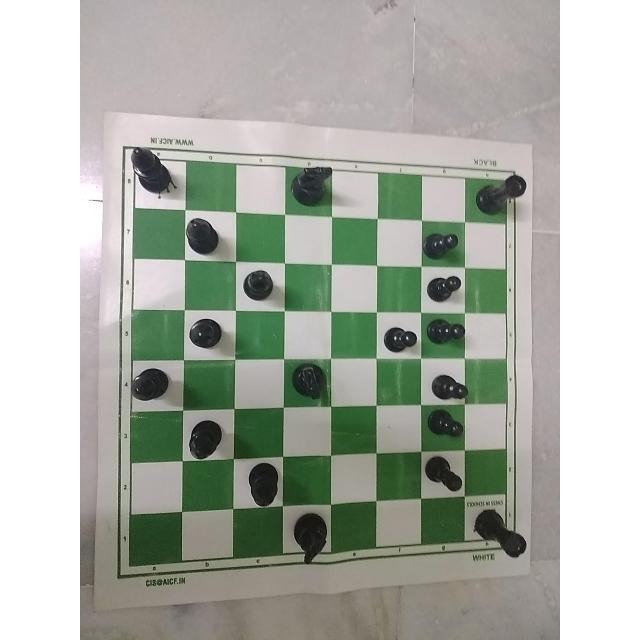black-bishop: (122, 145, 183, 208), (184, 411, 228, 465), (126, 361, 169, 411), (244, 457, 280, 512), (182, 213, 226, 257), (182, 310, 222, 356), (242, 260, 274, 310)
black-knight: (290, 512, 334, 580), (284, 160, 336, 212), (293, 361, 335, 411)
black-pawn: (420, 457, 470, 499), (420, 266, 464, 310), (424, 369, 470, 411), (424, 218, 462, 264), (427, 312, 467, 354), (379, 318, 415, 364), (426, 414, 469, 450)
black-rook: (475, 501, 528, 571), (470, 163, 528, 221)
